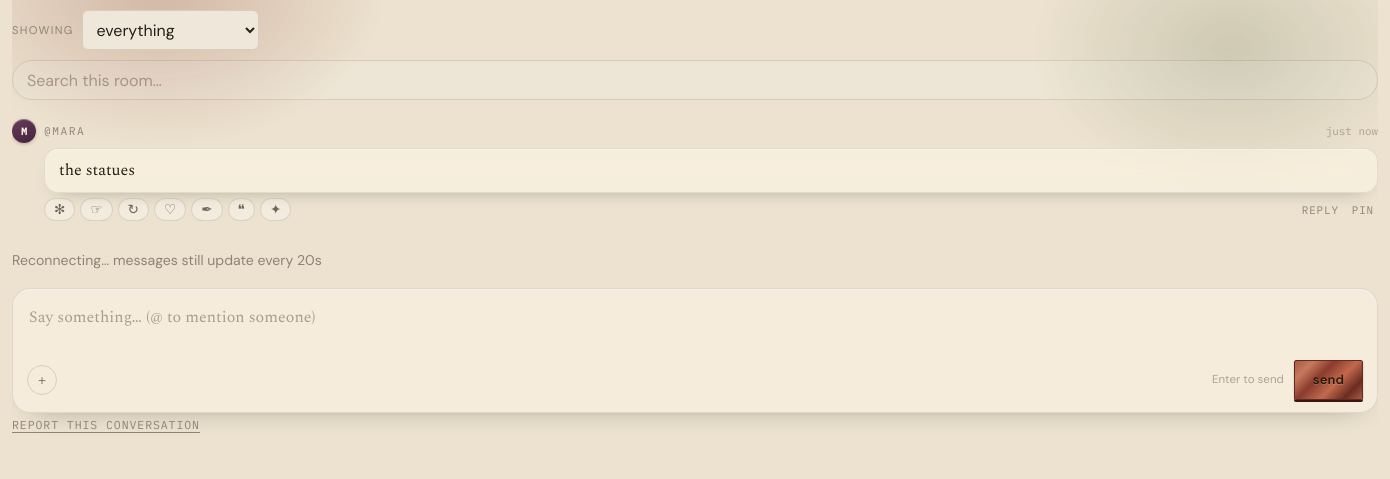
CollectionChat — one room per collection [#6] › tells the sender plainly when a message was refused, and keeps the draft
Type "refused thing" into the text box named "your message" at (695, 324), box [27, 301, 1363, 347]
Then press Enter
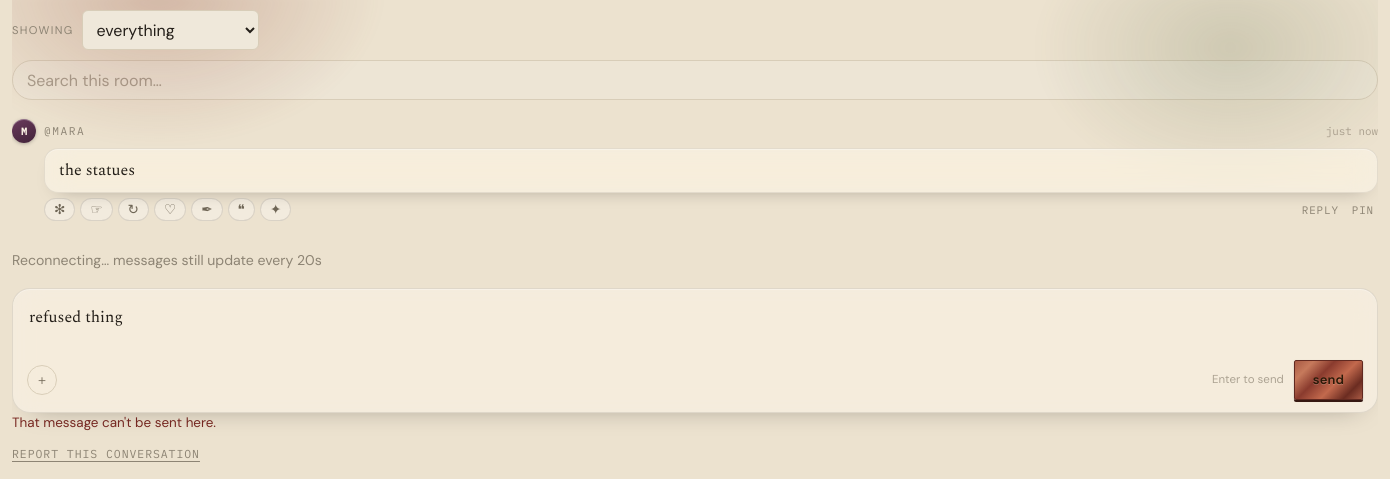
Expected: the message "That message can't be sent here." is shown, [12, 414, 216, 431]
